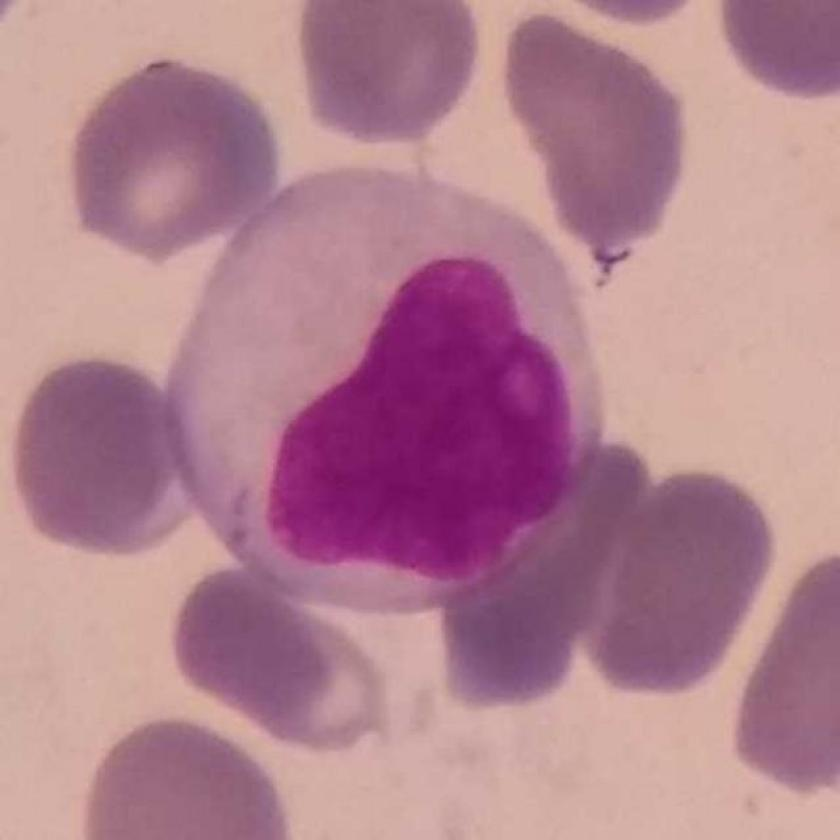monocyte: (170, 154, 622, 625)
